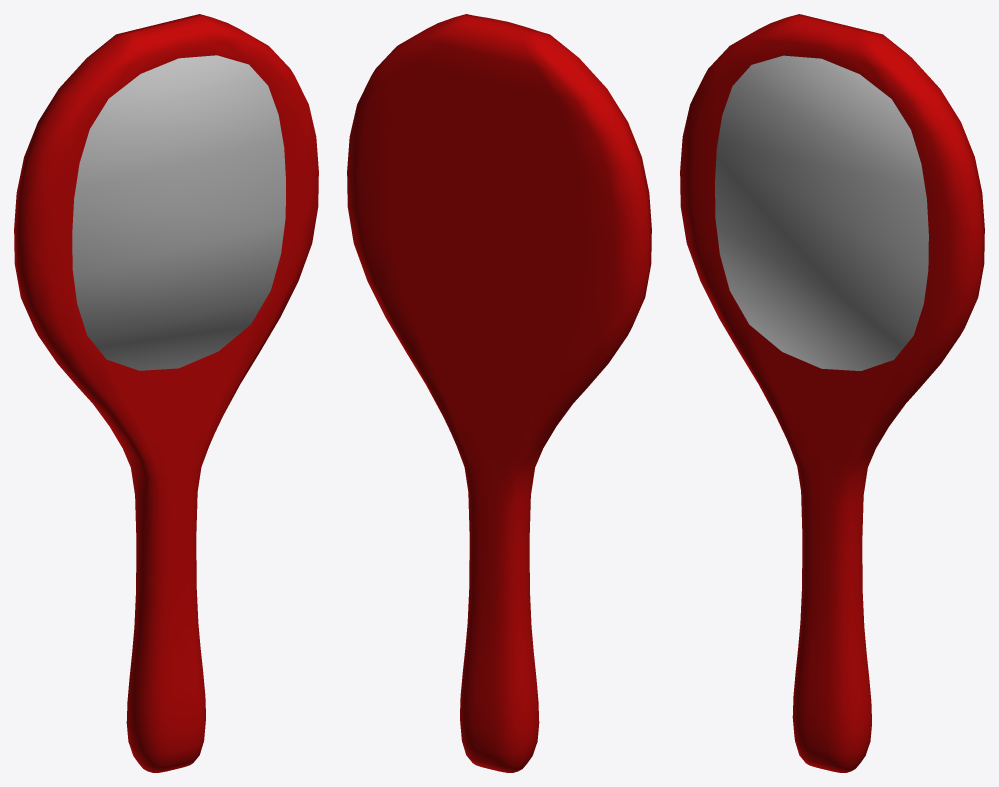
Rendered from mirror.fbx.
3 views of the same model, side by side, from view 1: azimuth 30°, elevation 25°; view 2: azimuth 150°, elevation 25°; view 3: azimuth 330°, elevation 25° (orthographic).
Parts seen in each view (by area): view 1: Cube_Cube_001, Circle; view 2: Cube_Cube_001; view 3: Cube_Cube_001, Circle.
Part boxes in pixels (x1,y1,x2,y2): Cube_Cube_001: [14, 14, 318, 772]; Circle: [72, 55, 285, 370]; Cube_Cube_001: [347, 14, 651, 772]; Cube_Cube_001: [680, 14, 984, 772]; Circle: [715, 55, 928, 370].
Size of the model in its own units: 3.02 by 7.19 by 0.5424.
